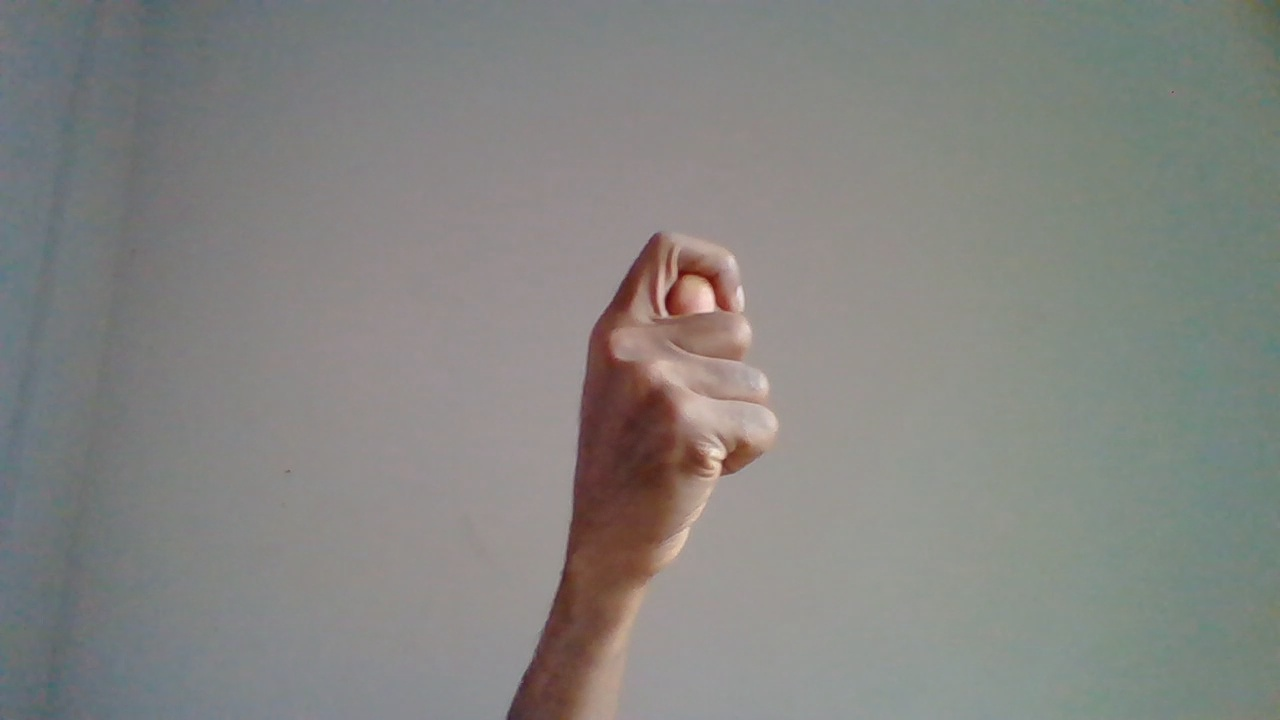che: (562, 227, 779, 675)
